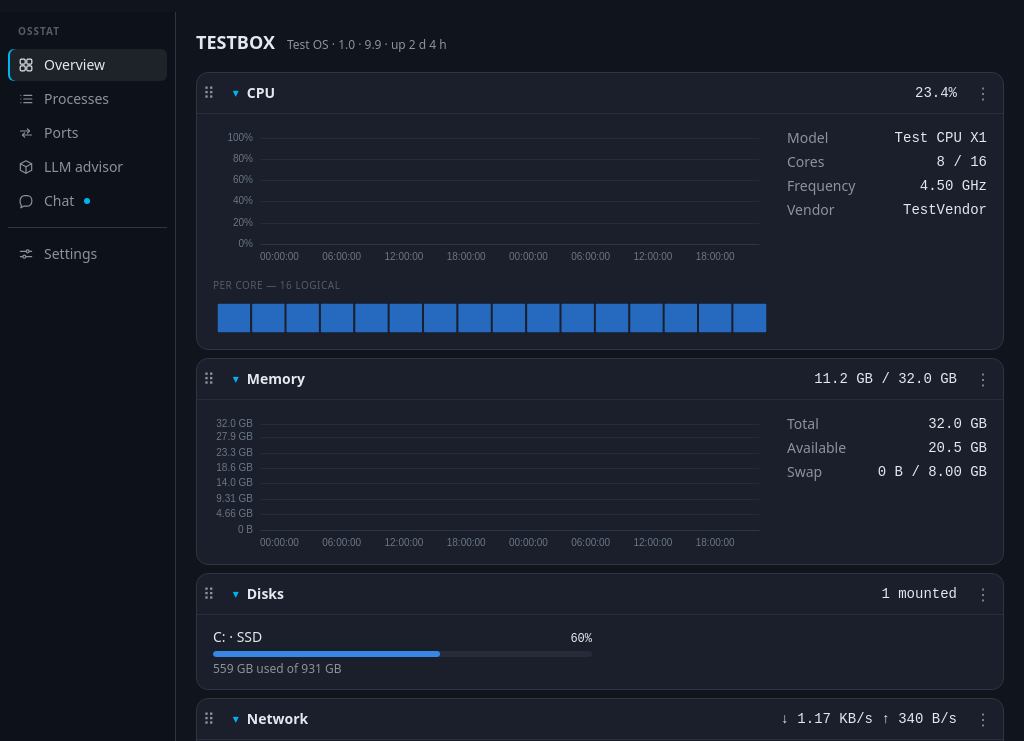
Test case: App › switches navigation style from settings and keeps every page reachable
Expected: the heading "TESTBOX" is shown, [196,28,275,56]
Click the button titled "Settings" at (88, 254), box [8,238,167,270]
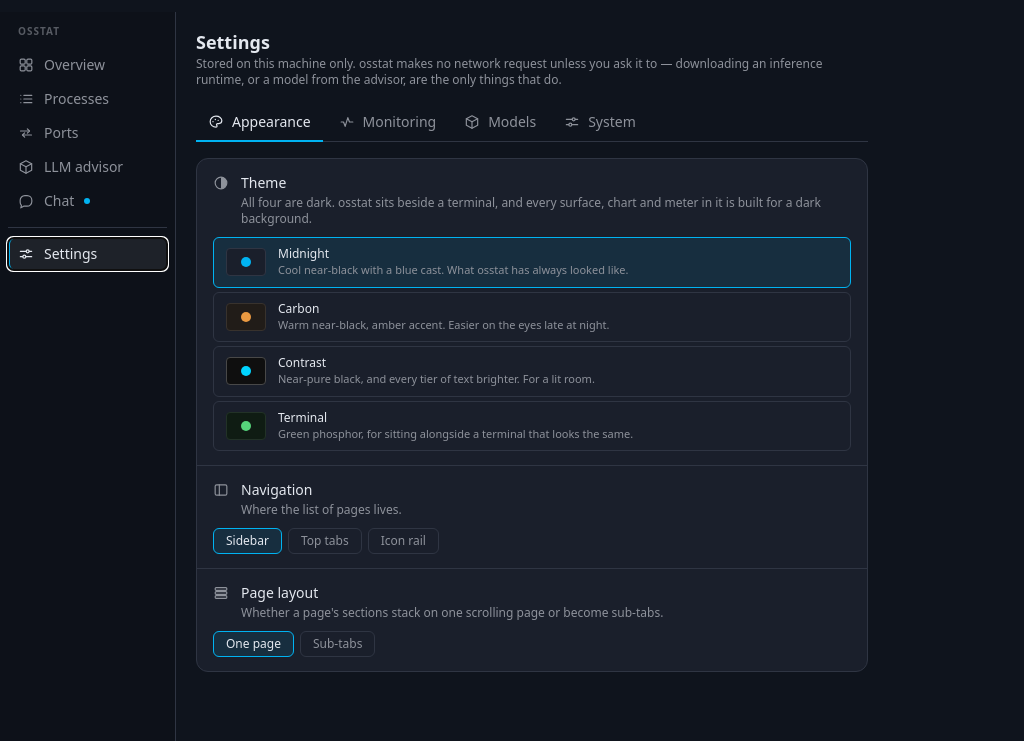
Click the radio button labelled "Top tabs" at (325, 541), box [288,528,362,554]
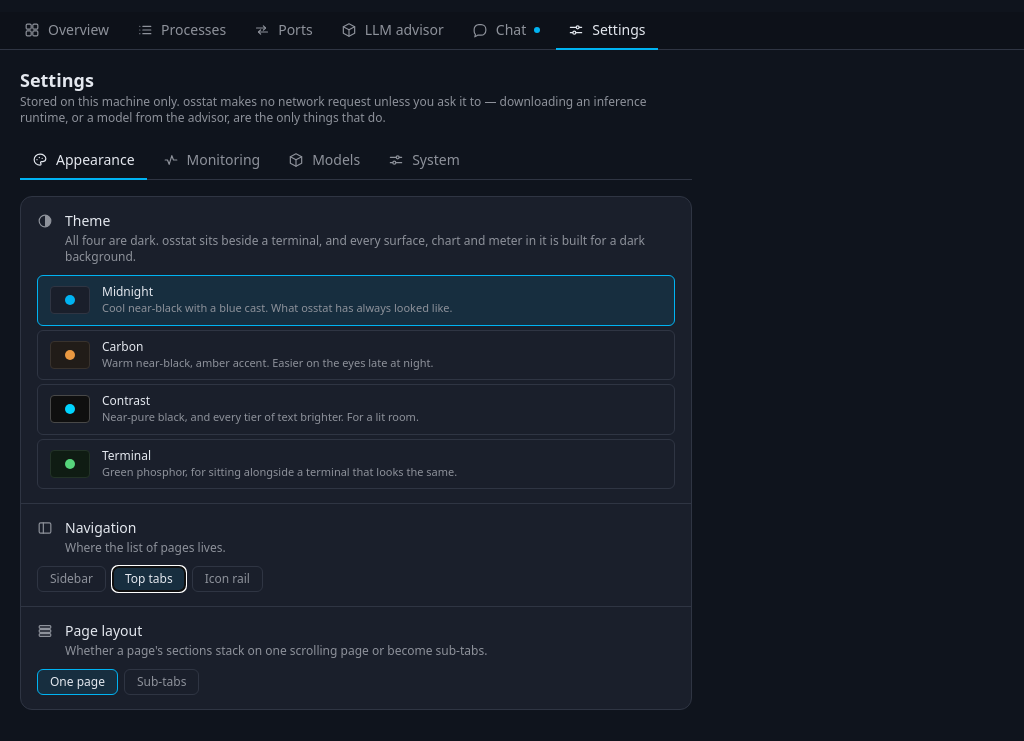
Click the button titled "Processes" at (182, 31), box [125,12,238,50]
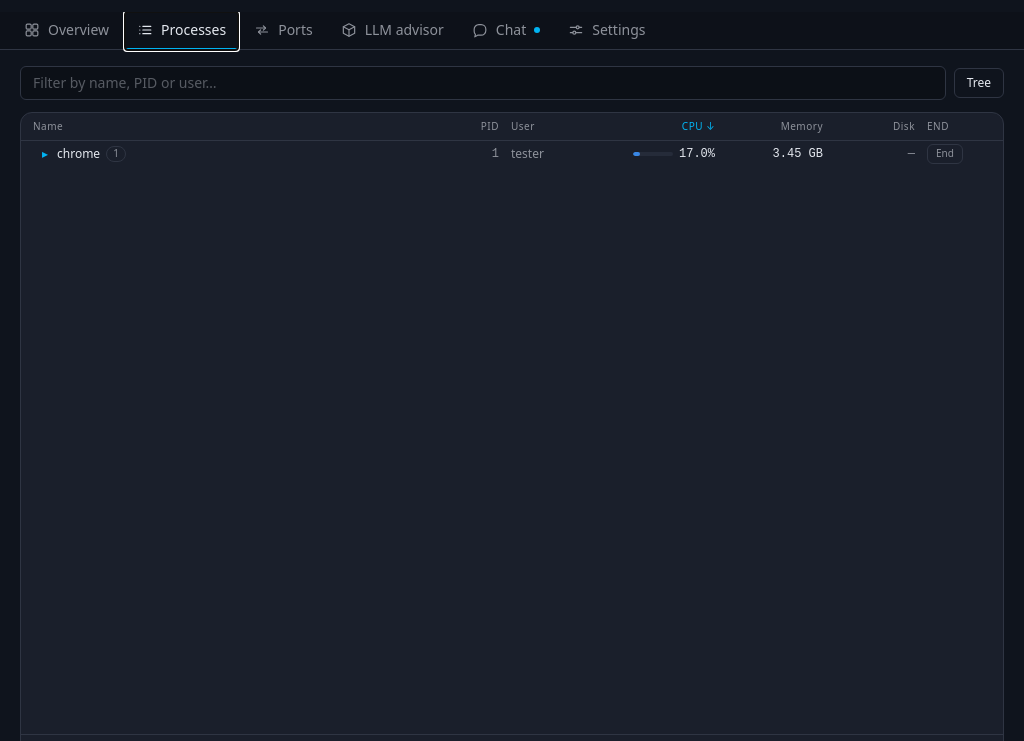
Expected: the search field named "Filter processes" is shown, [20,66,946,100]
